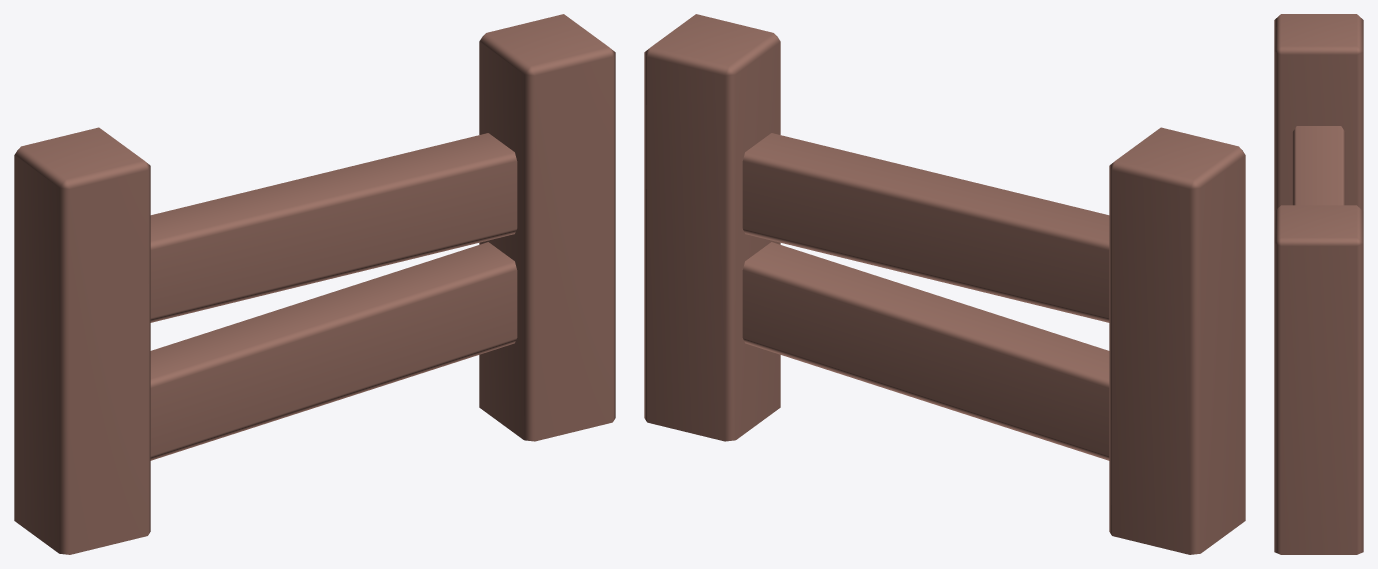
The model's file is Farm_7_Fence_2.glb.
The picture shows the model from 3 angles, left to right: view 1: azimuth 30°, elevation 25°; view 2: azimuth 150°, elevation 25°; view 3: azimuth 270°, elevation 25°; orthographic projection. The views are drawn at different scales.
Parts seen in each view (by area): view 1: Farm_7_Fence_2; view 2: Farm_7_Fence_2; view 3: Farm_7_Fence_2.
Boxes of the visible parts, left/top/right/bottom form: Farm_7_Fence_2: left=14, top=14, right=615, bottom=554; Farm_7_Fence_2: left=644, top=14, right=1245, bottom=554; Farm_7_Fence_2: left=1274, top=14, right=1363, bottom=554.
Bounding box in the file's own units: 2.32 × 1.49 × 0.3822.
Materials: 1 (1 with a texture image).
